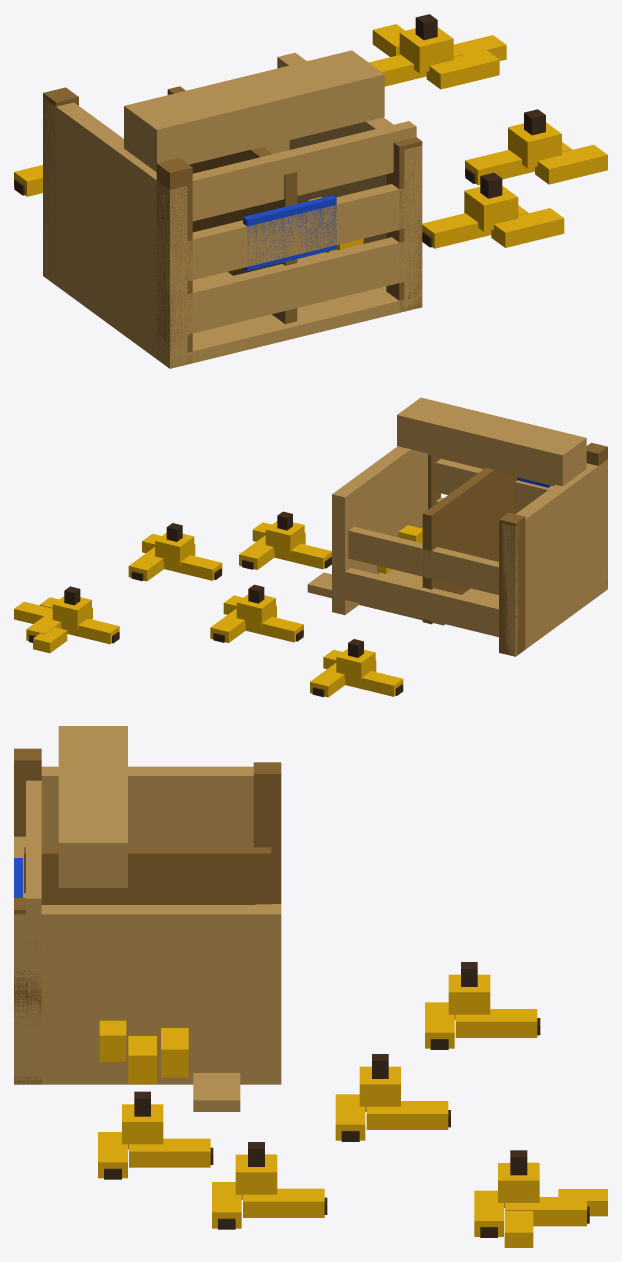
File: obs_banana_crate_spill.glb
3 renders of one model, top to bottom at view 1: azimuth 30°, elevation 25°; view 2: azimuth 150°, elevation 25°; view 3: azimuth 270°, elevation 25°, orthographic. The views are drawn at different scales.
Parts seen in each view (by area): view 1: body, peel_1_p1, crate_cleat_1, crate_blue_label, peel_1_stem; view 2: body, peel_1_p1, crate_cleat_1, peel_1_stem; view 3: body, peel_1_p1, crate_cleat_1, peel_1_stem.
Part boxes in pixels (left/top/right/bottom): body: left=43, top=50, right=422, bottom=368; peel_1_p1: left=14, top=24, right=607, bottom=252; crate_cleat_1: left=43, top=86, right=422, bottom=368; crate_blue_label: left=243, top=195, right=336, bottom=271; peel_1_stem: left=14, top=14, right=545, bottom=247; body: left=307, top=397, right=607, bottom=656; peel_1_p1: left=14, top=521, right=422, bottom=697; crate_cleat_1: left=422, top=442, right=607, bottom=655; peel_1_stem: left=29, top=511, right=403, bottom=697; body: left=14, top=726, right=281, bottom=1111; peel_1_p1: left=98, top=974, right=607, bottom=1247; crate_cleat_1: left=14, top=748, right=281, bottom=1084; peel_1_stem: left=104, top=962, right=589, bottom=1237.
Size of the model in its own units: 1.4 by 0.52 by 1.2.
